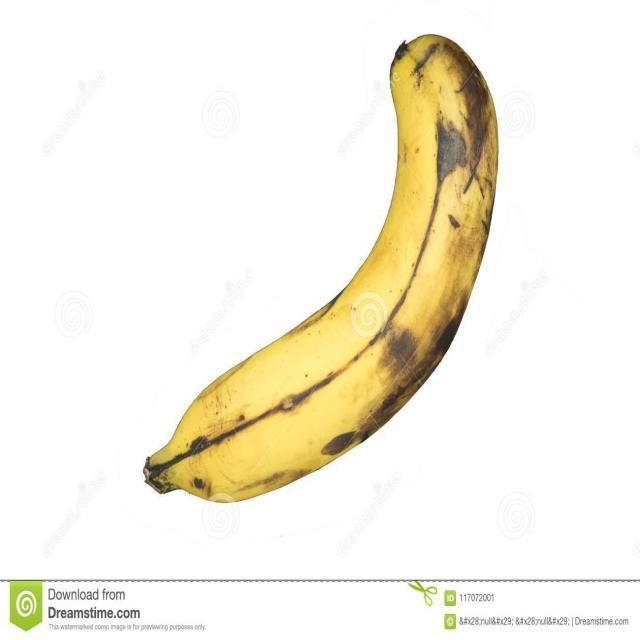Banana: (148, 26, 502, 497)
